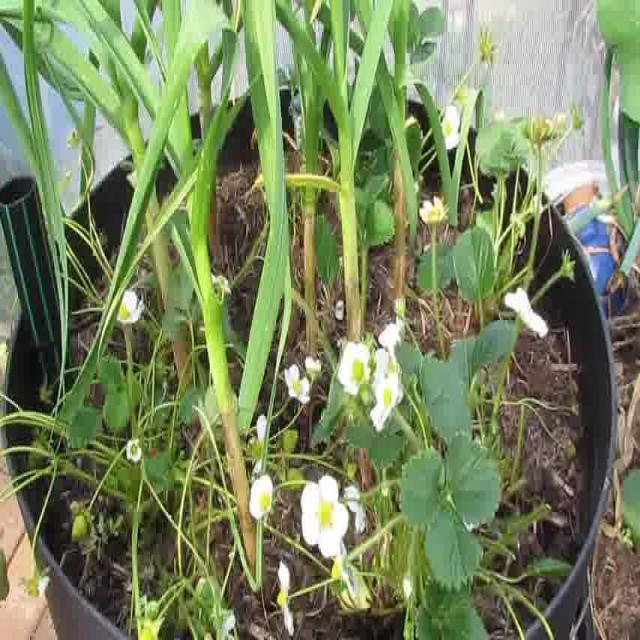Fruta sana: (28, 430, 50, 470), (278, 429, 300, 456), (138, 618, 164, 640), (281, 468, 306, 490), (0, 553, 10, 600), (72, 514, 88, 542)
